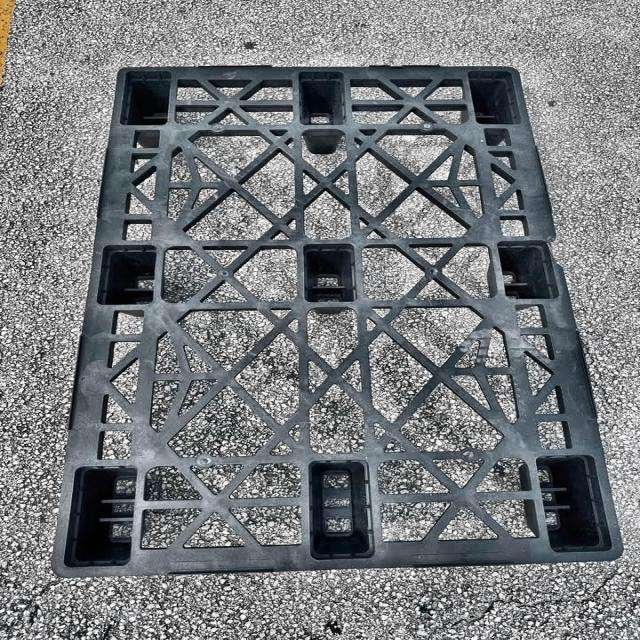non-igps: (35, 58, 640, 586)
